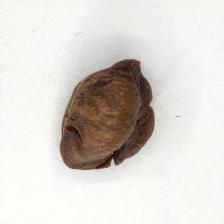NG: (62, 59, 155, 169)
